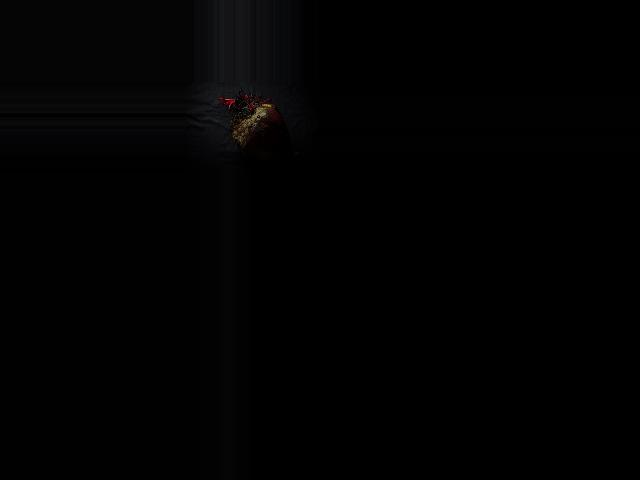beet: (218, 90, 303, 163)
